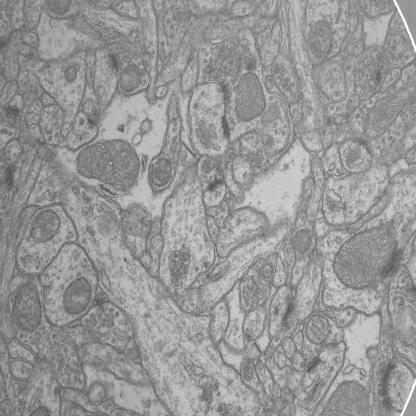mitochondria: (332, 221, 401, 292), (73, 136, 141, 193), (362, 74, 416, 145), (233, 70, 268, 124), (10, 280, 42, 336), (60, 274, 93, 316), (306, 20, 335, 62), (29, 210, 62, 244), (306, 310, 330, 348), (150, 158, 174, 190), (120, 60, 143, 92)
